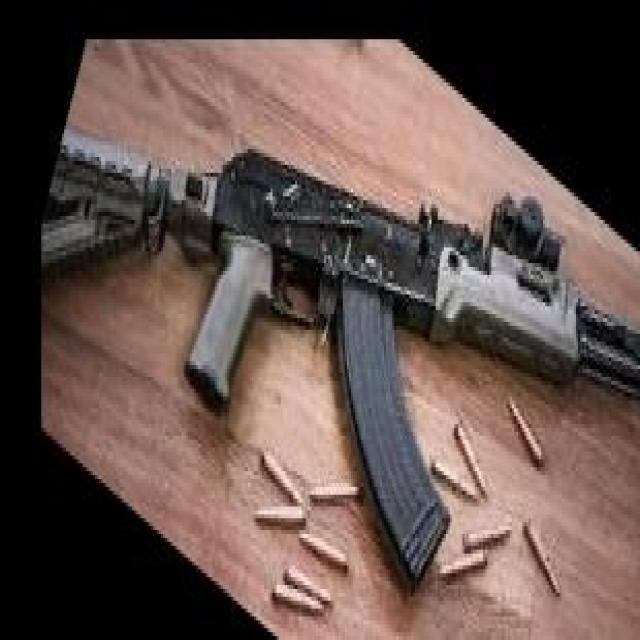weapon: (40, 132, 640, 598)
